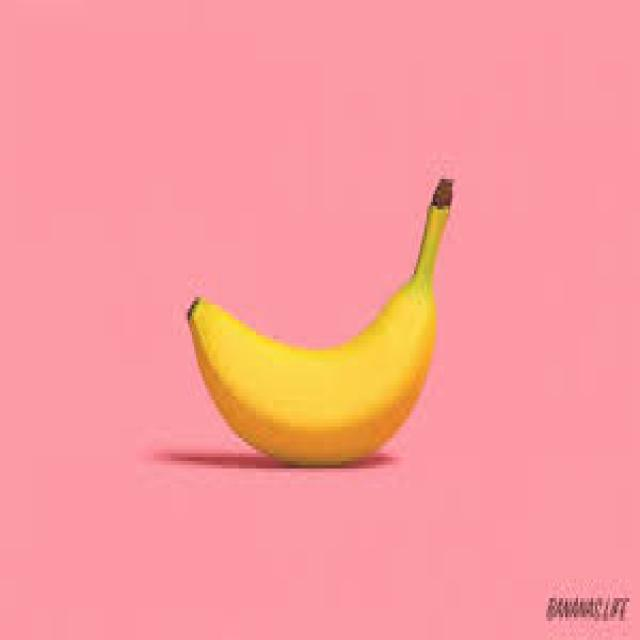banana: (186, 175, 454, 465)
